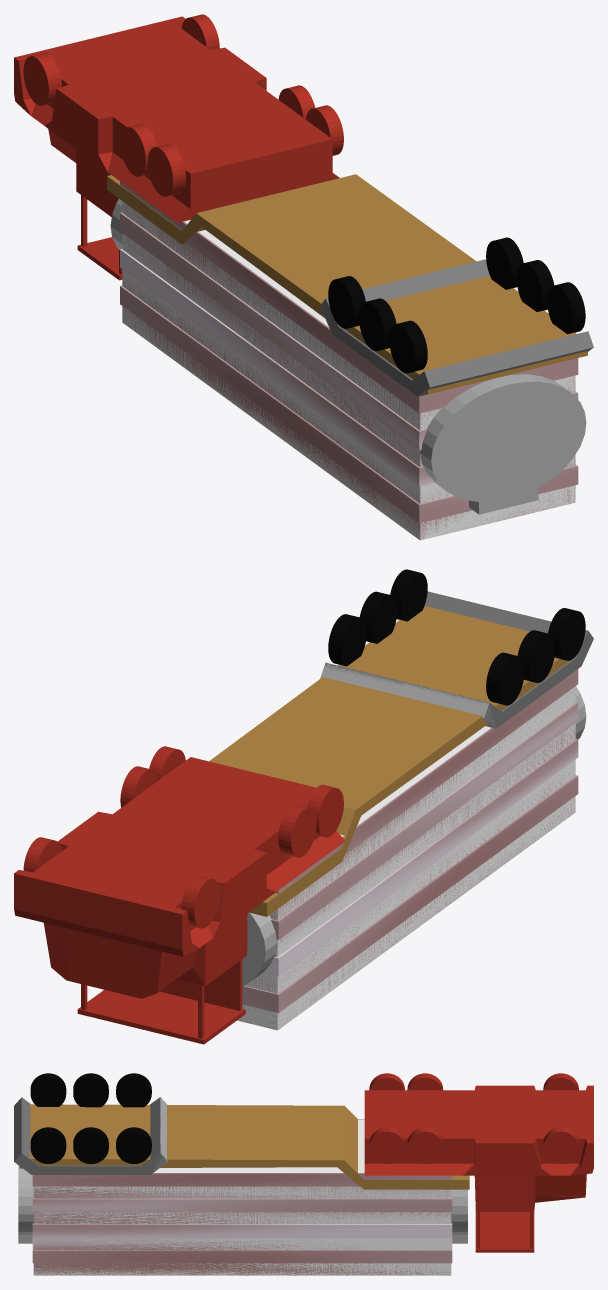
File: semitractor.obj
The picture shows the model from 3 angles, top to bottom: view 1: azimuth 30°, elevation 25°; view 2: azimuth 150°, elevation 25°; view 3: azimuth 270°, elevation 25°; orthographic projection. The views are drawn at different scales.
Parts seen in each view (by area): view 1: SemiTractor_Cube, AnimalTrailer_Cube.003, SemiTrailer_Cube.006, FlatBedTrailer_Cube.001, TankerTailer_Cube.002; view 2: SemiTractor_Cube, SemiTrailer_Cube.006, AnimalTrailer_Cube.003, FlatBedTrailer_Cube.001, TankerTailer_Cube.002; view 3: AnimalTrailer_Cube.003, SemiTrailer_Cube.006, SemiTractor_Cube, FlatBedTrailer_Cube.001, TankerTailer_Cube.002.
Boxes of the visible parts, x1,y1,x2,y2 form: SemiTractor_Cube: (14, 14, 343, 280); AnimalTrailer_Cube.003: (120, 181, 578, 538); SemiTrailer_Cube.006: (122, 201, 593, 540); FlatBedTrailer_Cube.001: (107, 174, 587, 394); TankerTailer_Cube.002: (110, 199, 586, 514); SemiTractor_Cube: (14, 746, 345, 1044); SemiTrailer_Cube.006: (237, 569, 593, 1030); AnimalTrailer_Cube.003: (238, 669, 578, 1029); FlatBedTrailer_Cube.001: (209, 606, 574, 916); TankerTailer_Cube.002: (242, 573, 586, 986); AnimalTrailer_Cube.003: (32, 1119, 452, 1275); SemiTrailer_Cube.006: (14, 1073, 451, 1275); SemiTractor_Cube: (364, 1073, 593, 1252); FlatBedTrailer_Cube.001: (19, 1104, 469, 1189); TankerTailer_Cube.002: (18, 1081, 467, 1243).
Size of the model in its own units: 2.26 by 2.64 by 9.46.
1 material, 1 textured.
